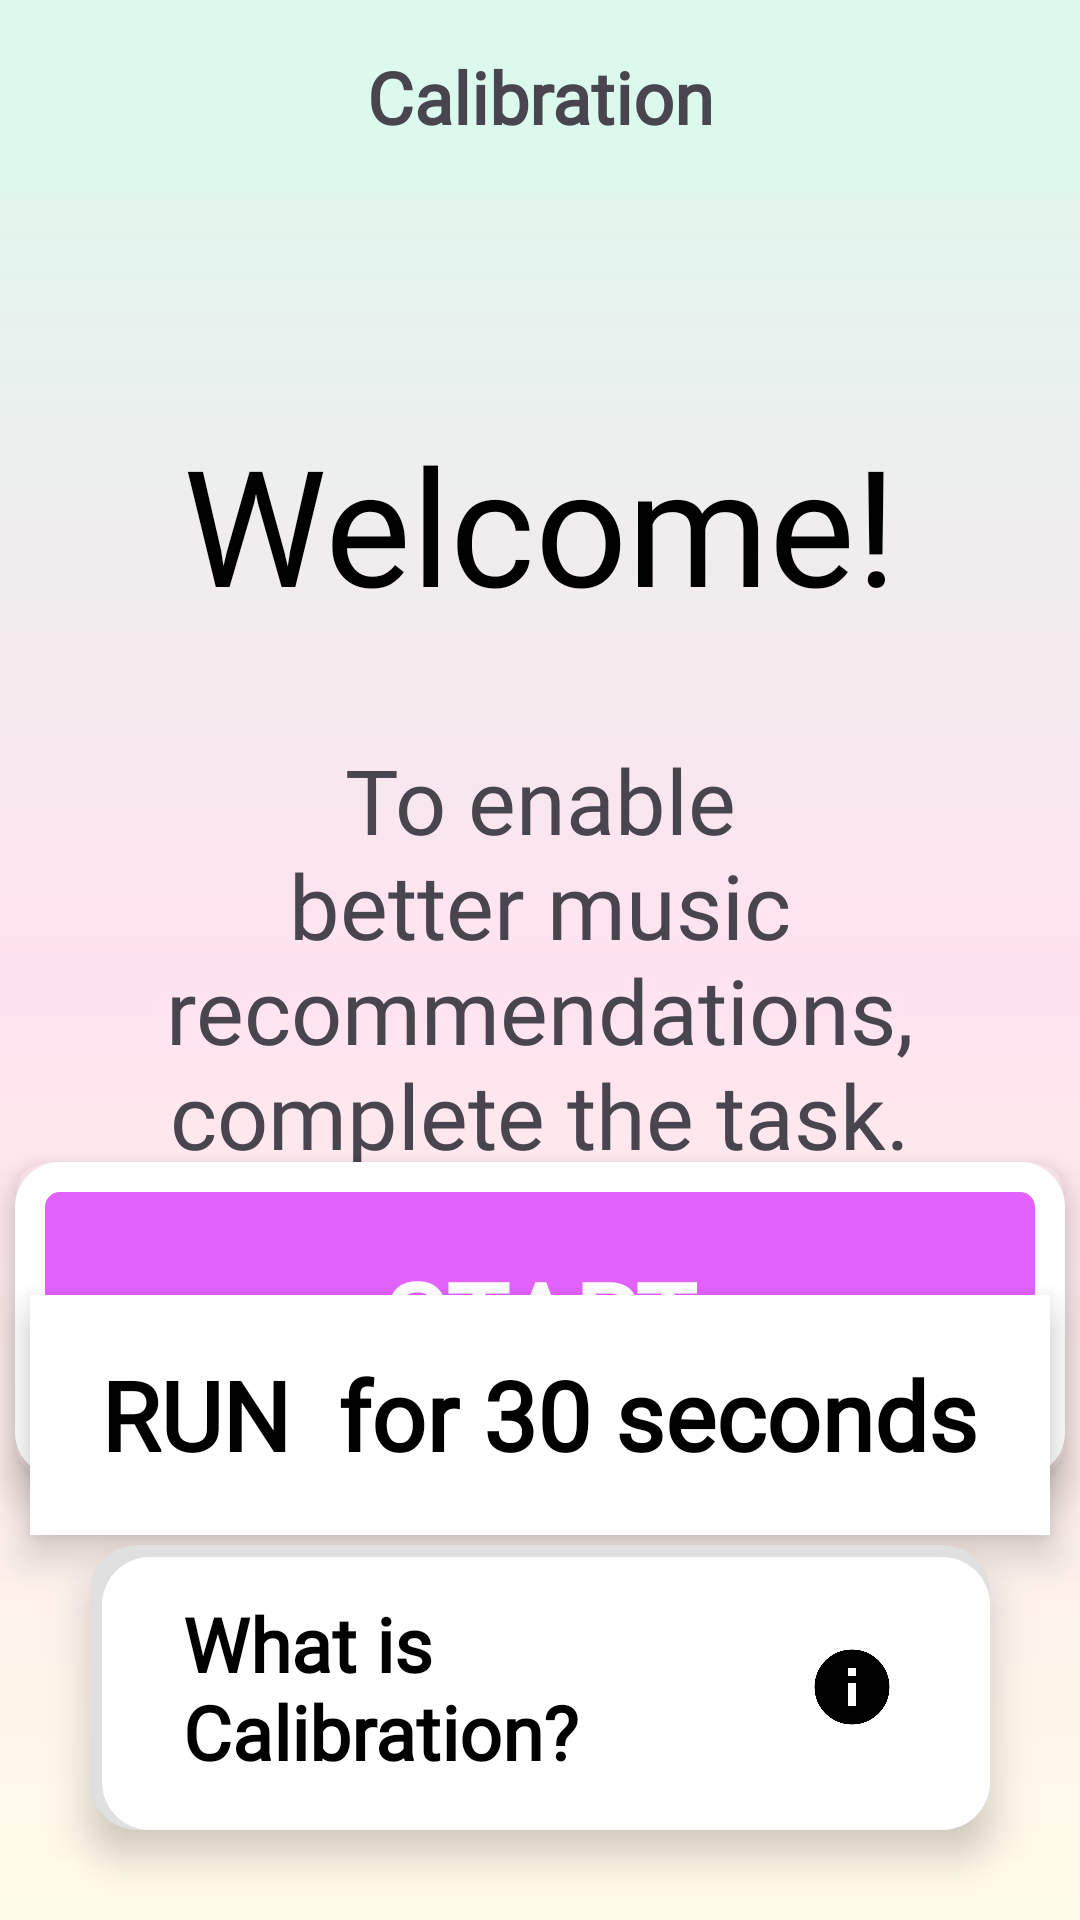

Where icons sit on this 1080x1920 app screen, as [x1,y1,x2,y2]:
Info Icon: [814,1649,890,1725]
